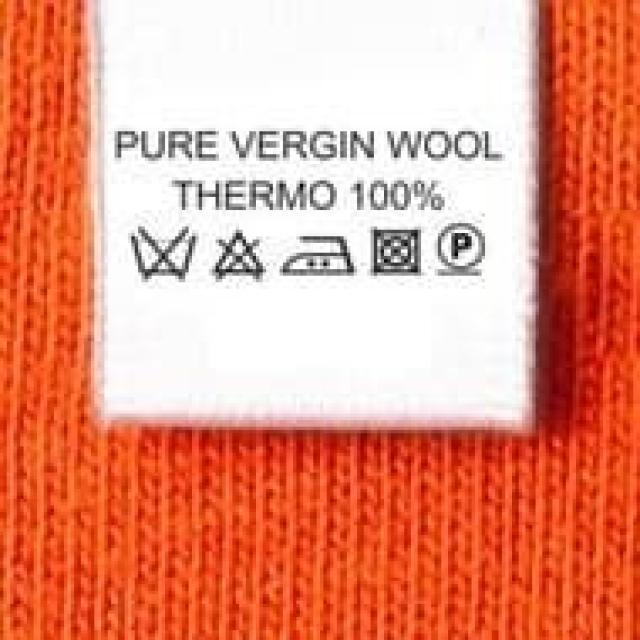DN_bleach: (213, 226, 268, 284)
DN_tumble_dry: (371, 223, 427, 280)
DN_wash: (125, 223, 201, 286)
dry_clean_any_solvent_except_trichloroethylene: (434, 217, 489, 279)
iron_medium: (279, 229, 356, 283)
